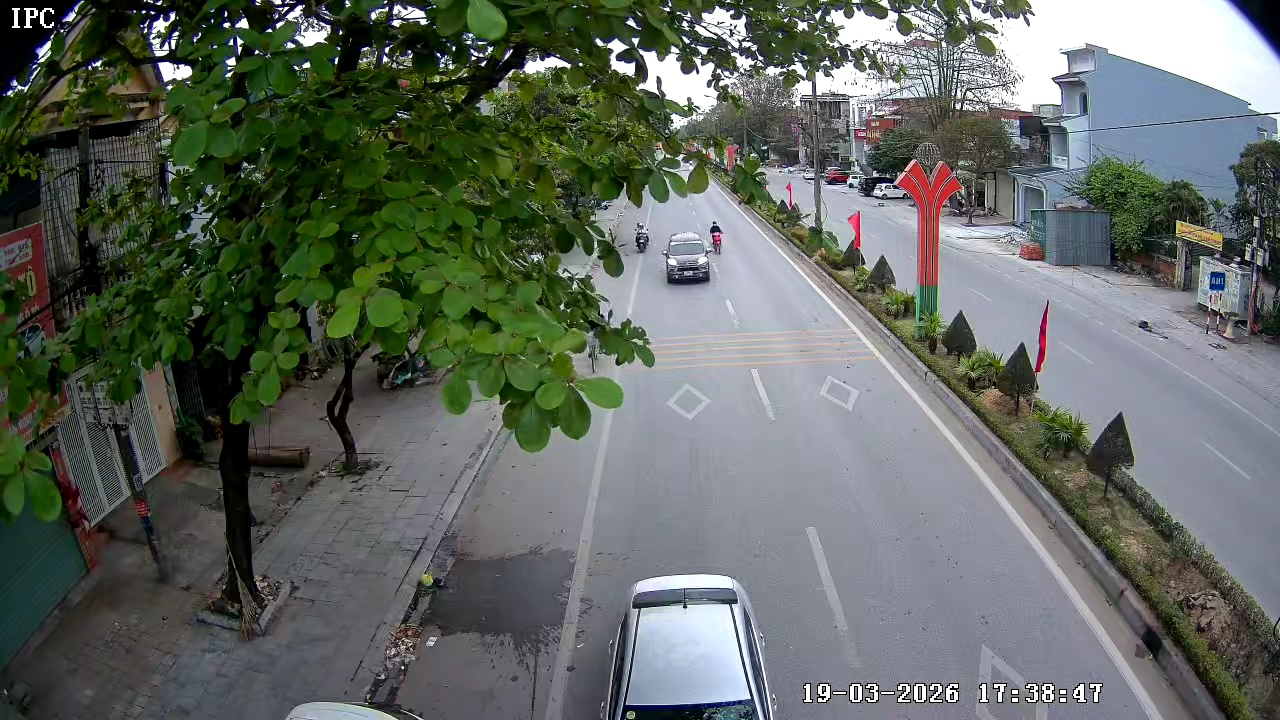car: (600, 571, 782, 719), (661, 230, 714, 286)
motorbike: (633, 218, 652, 255), (708, 219, 726, 256)
